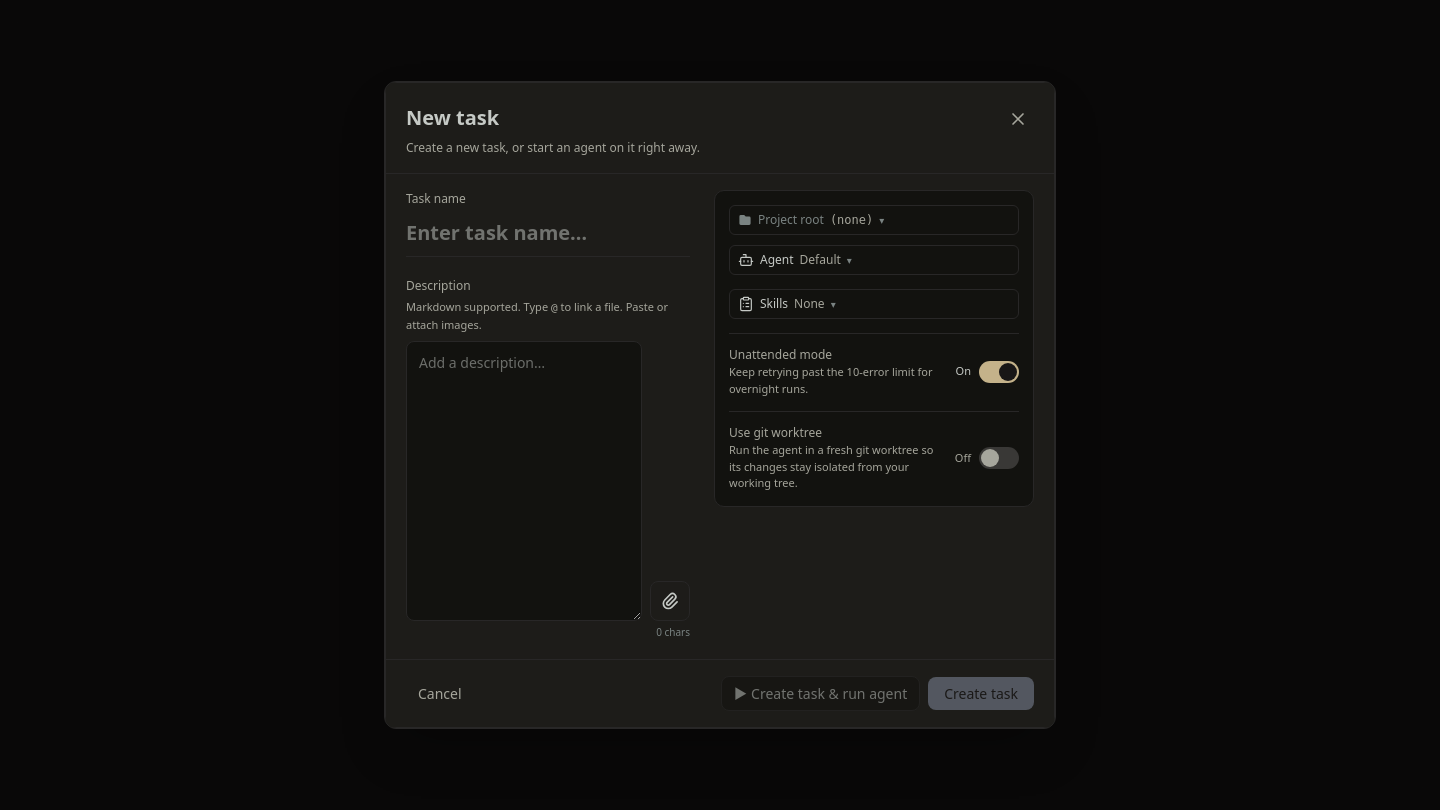
Test: KanbanTaskDetailDialog — skills picker (Migration 112) › picking a second row counts it: label, badge and one chip per pick
Click the button with test id "kanban-task-detail-skill-picker": click(809, 304) top-left (729, 289), bottom-right (1019, 319)
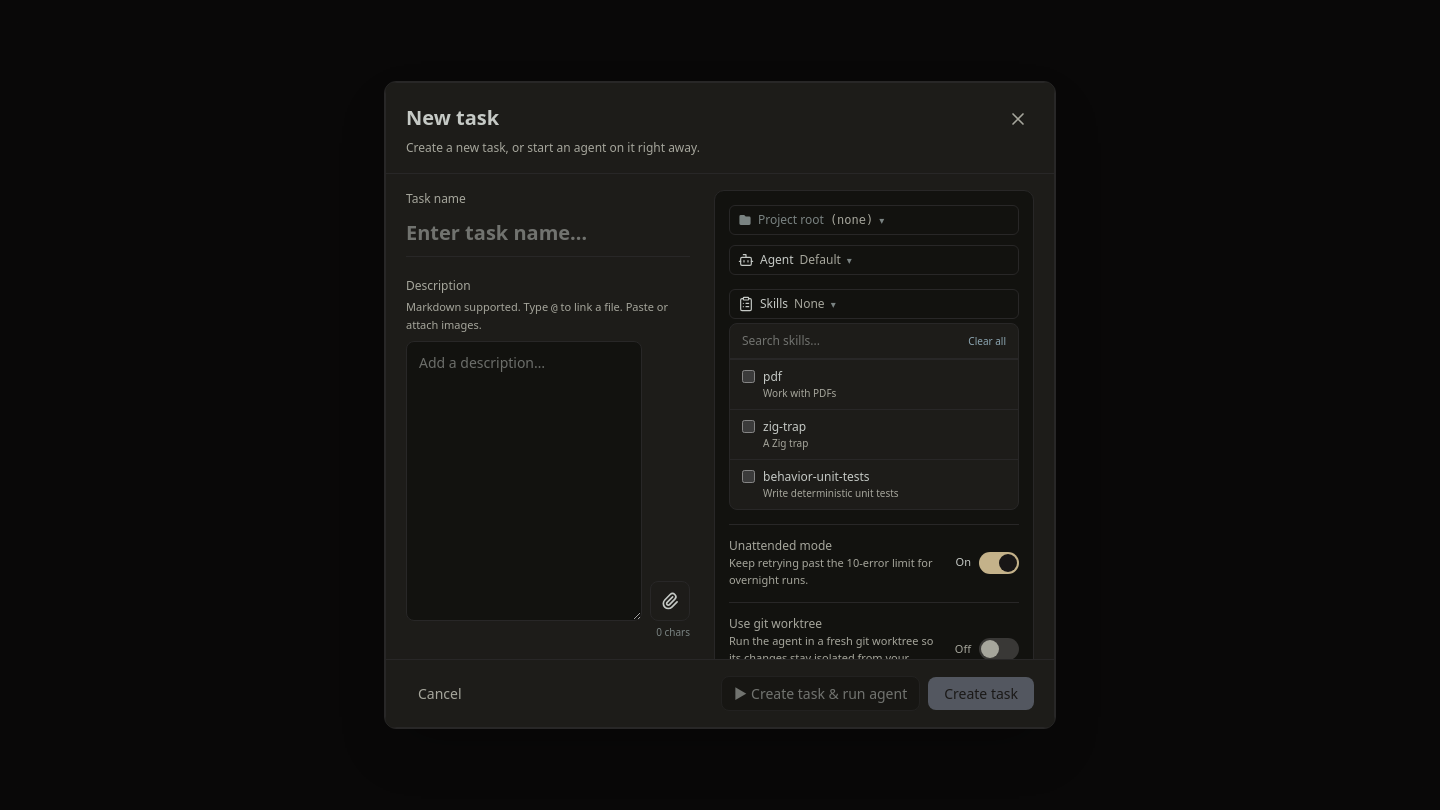
Click the button with test id "kanban-task-detail-skill-picker-item" showing "pdf Work with PDFs": click(800, 393) top-left (730, 359), bottom-right (1018, 409)
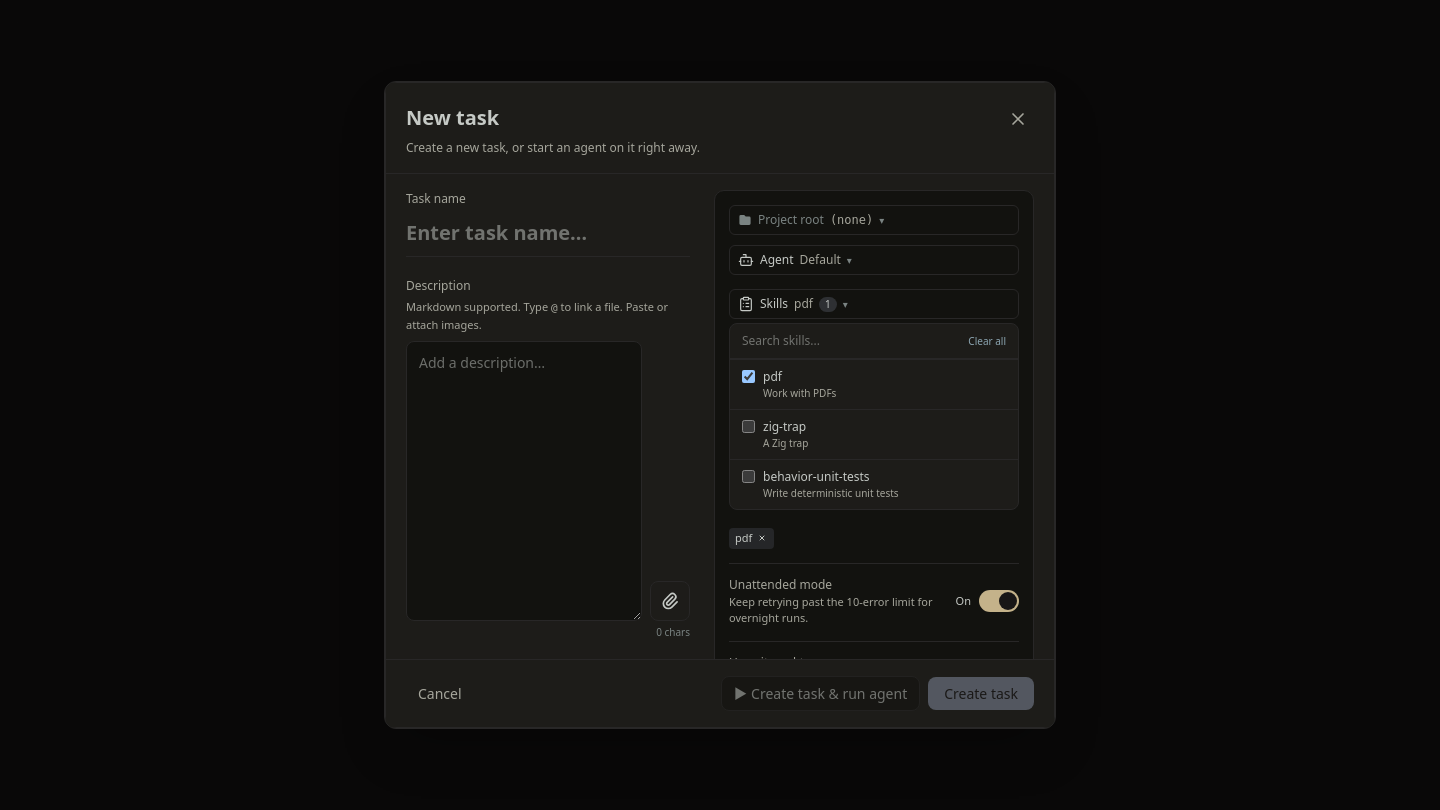
Click the button with test id "kanban-task-detail-skill-picker-item" showing "zig-trap A Zig trap": click(785, 426) top-left (730, 409), bottom-right (1018, 459)
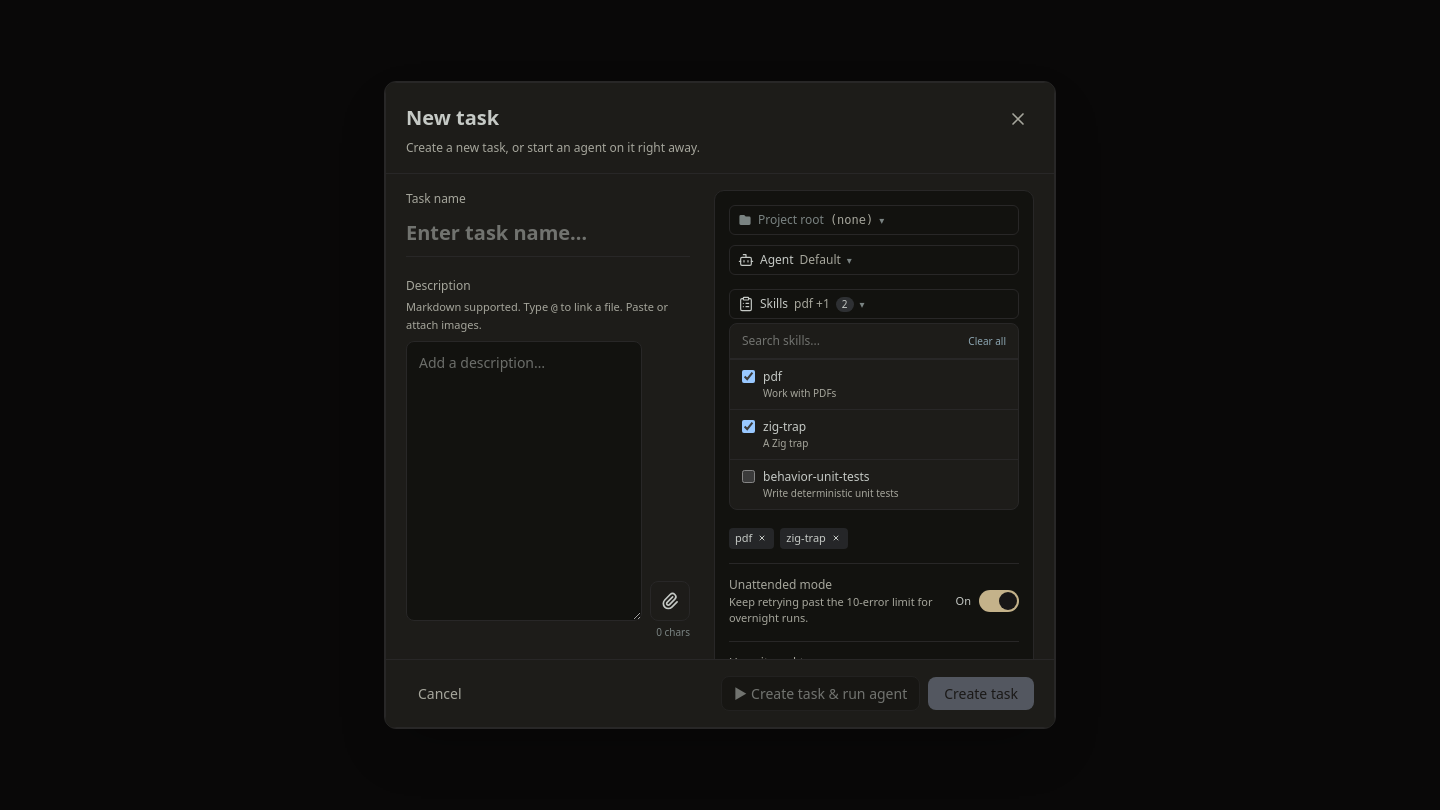
expect the button with test id "kanban-task-detail-skill-picker" shows "pdf +1": met, box top-left (729, 289), bottom-right (1019, 319)
expect the text "pdf" is shown: met, box top-left (763, 368), bottom-right (782, 385)
expect the text with test id "kanban-task-detail-skill-picker-count" reads "2": met, box top-left (842, 296), bottom-right (848, 310)
